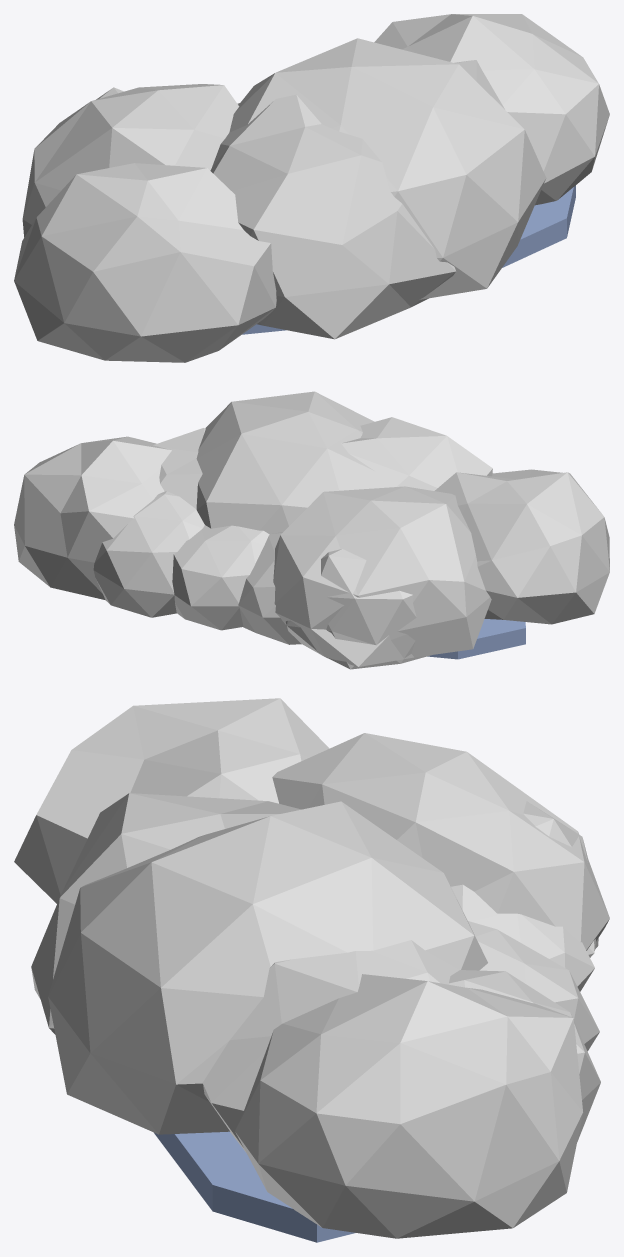
Rendered from CloudC.fbx.
3 renders of one model, top to bottom at view 1: azimuth 30°, elevation 25°; view 2: azimuth 150°, elevation 25°; view 3: azimuth 270°, elevation 25°, orthographic. The views are drawn at different scales.
Parts seen in each view (by area): view 1: CloudC_Puffs, CloudC_Shade; view 2: CloudC_Puffs, CloudC_Shade; view 3: CloudC_Puffs, CloudC_Shade.
Part boxes in pixels (x1,y1,x2,y2): CloudC_Puffs: (14,14,609,362); CloudC_Shade: (242,185,575,334); CloudC_Puffs: (14,391,609,669); CloudC_Shade: (427,619,525,659); CloudC_Puffs: (14,698,609,1238); CloudC_Shade: (154,1131,355,1242).
Bounding box in the file's own units: 386 × 121 × 242.
